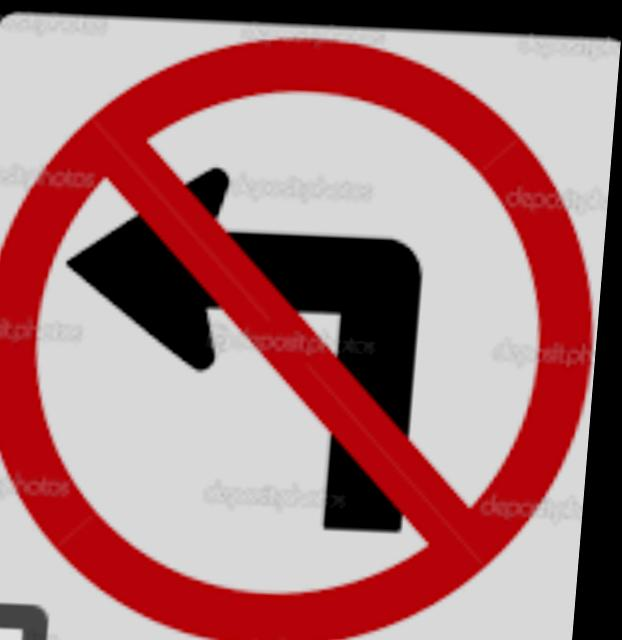not_turn_left: (0, 28, 620, 640)
